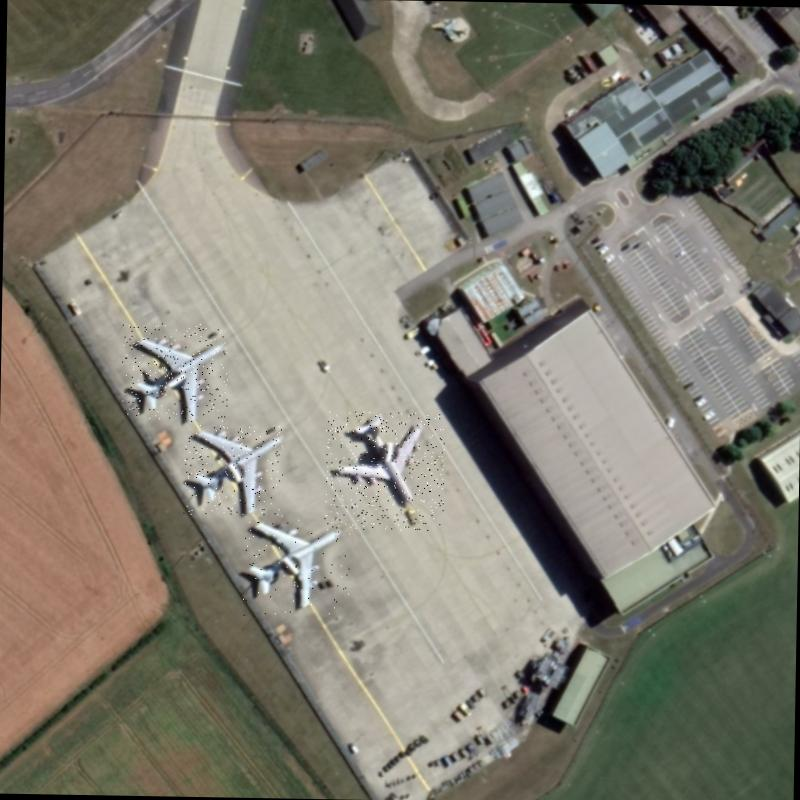A7: (324, 411, 445, 530), (239, 518, 350, 617), (120, 322, 228, 422), (183, 424, 285, 516)
